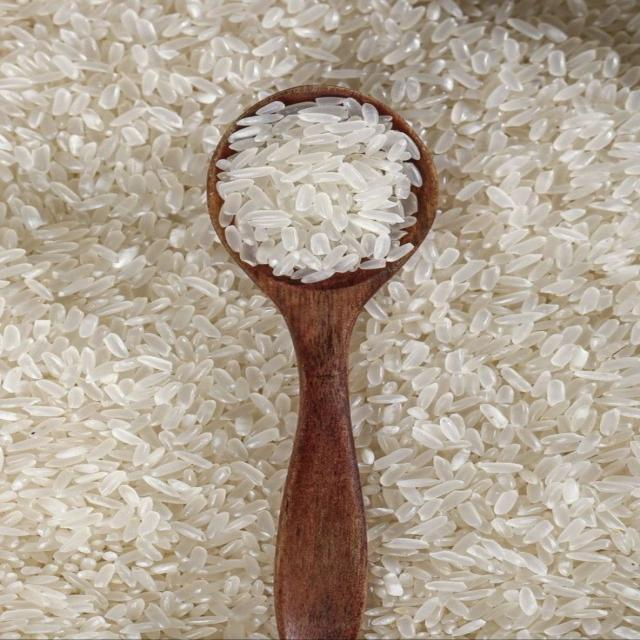rice: (0, 0, 639, 639), (217, 97, 421, 283)
